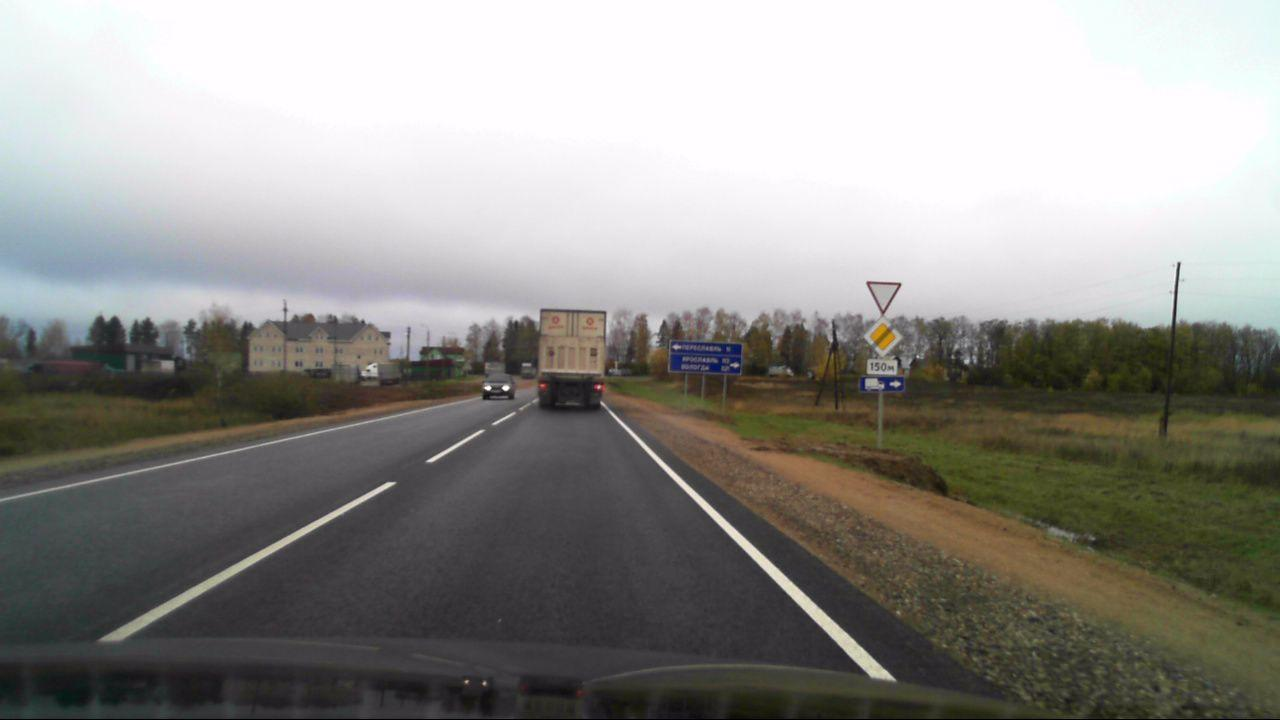2_2: (862, 317, 903, 359)
2_4: (864, 279, 902, 315)
6_10_1: (668, 339, 744, 376)
6_15_2: (859, 376, 906, 392)
8_1_1: (867, 360, 899, 374)
